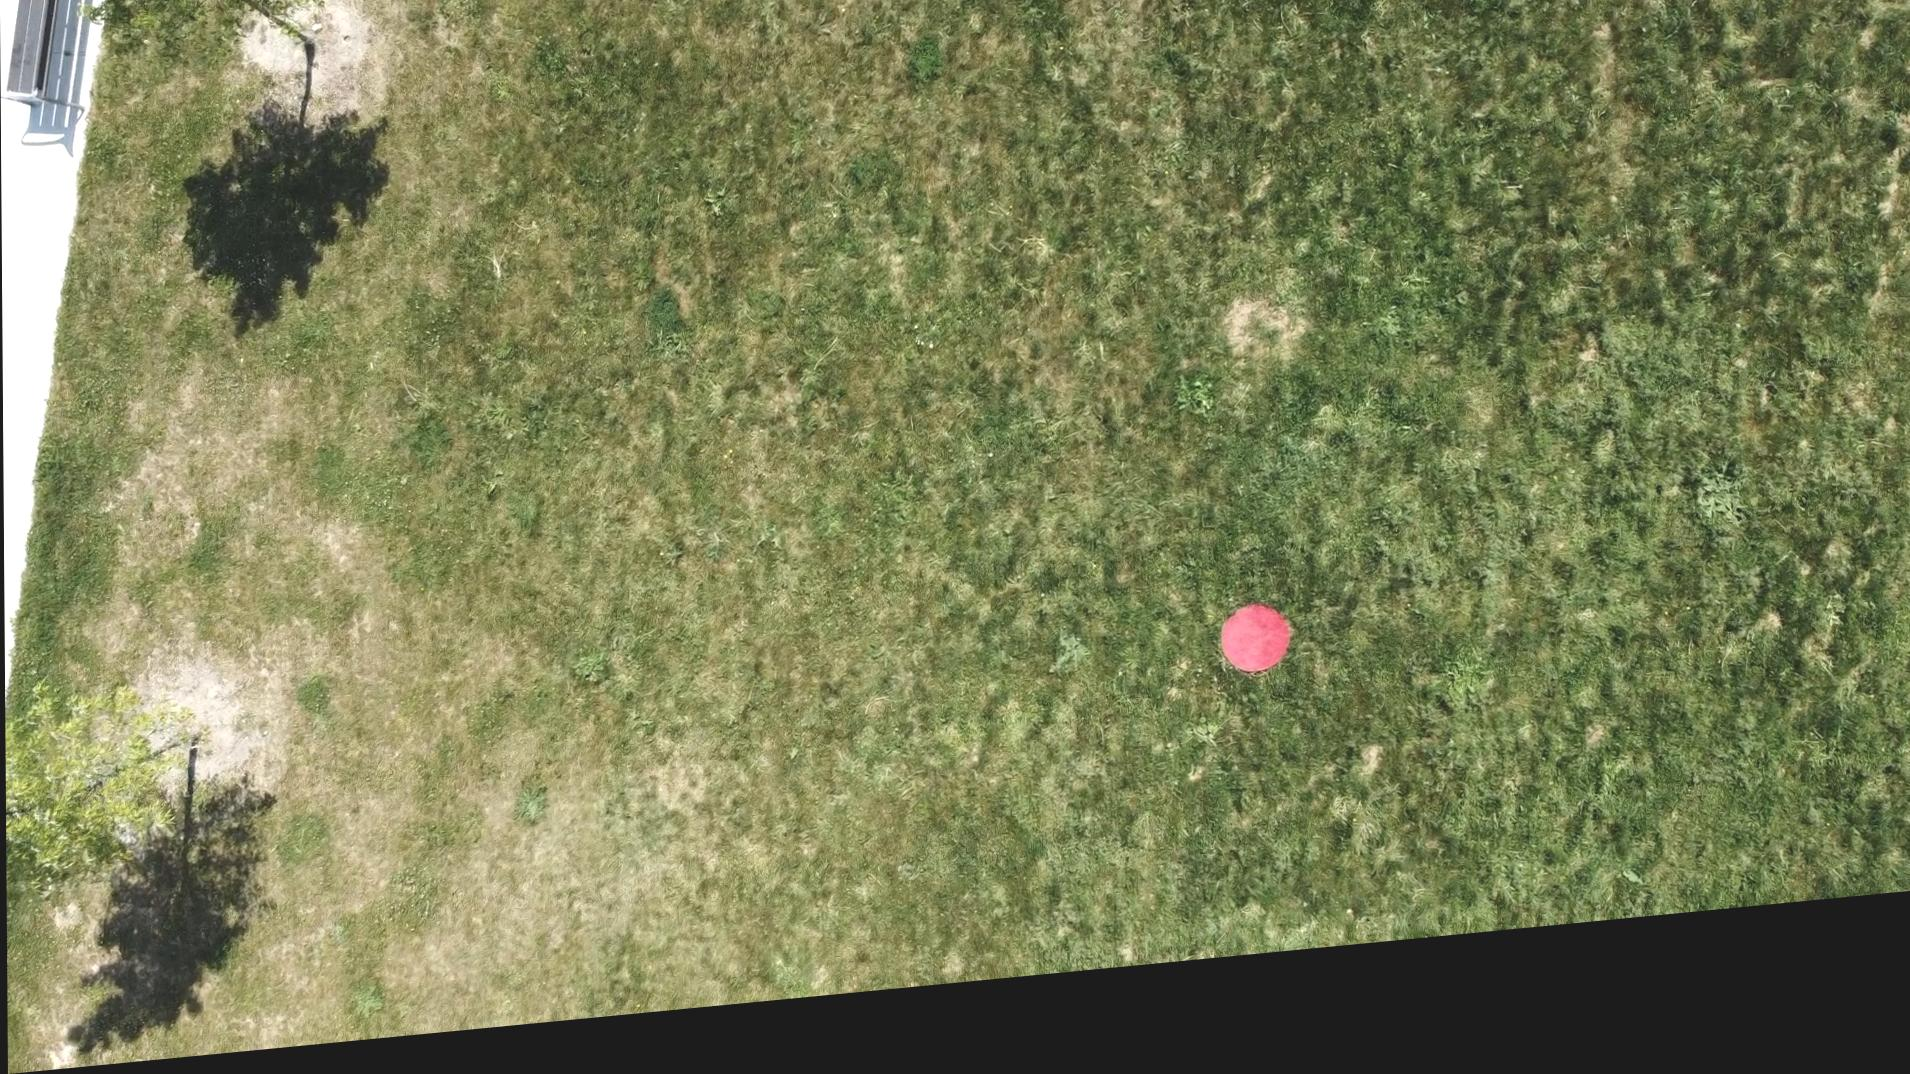Red: (1216, 622, 1295, 704)
